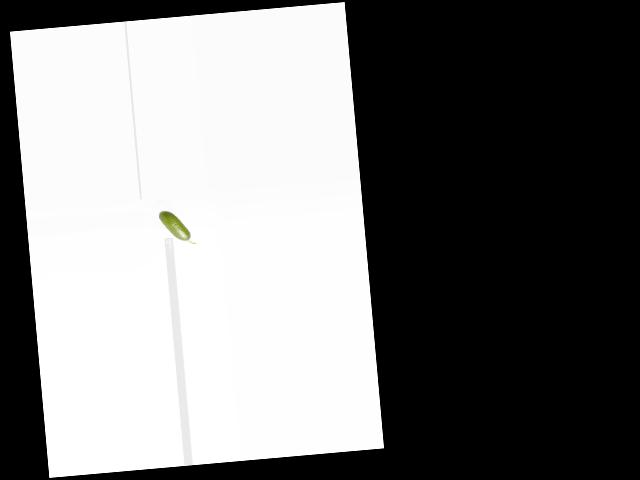cucumber: (158, 209, 195, 247)
